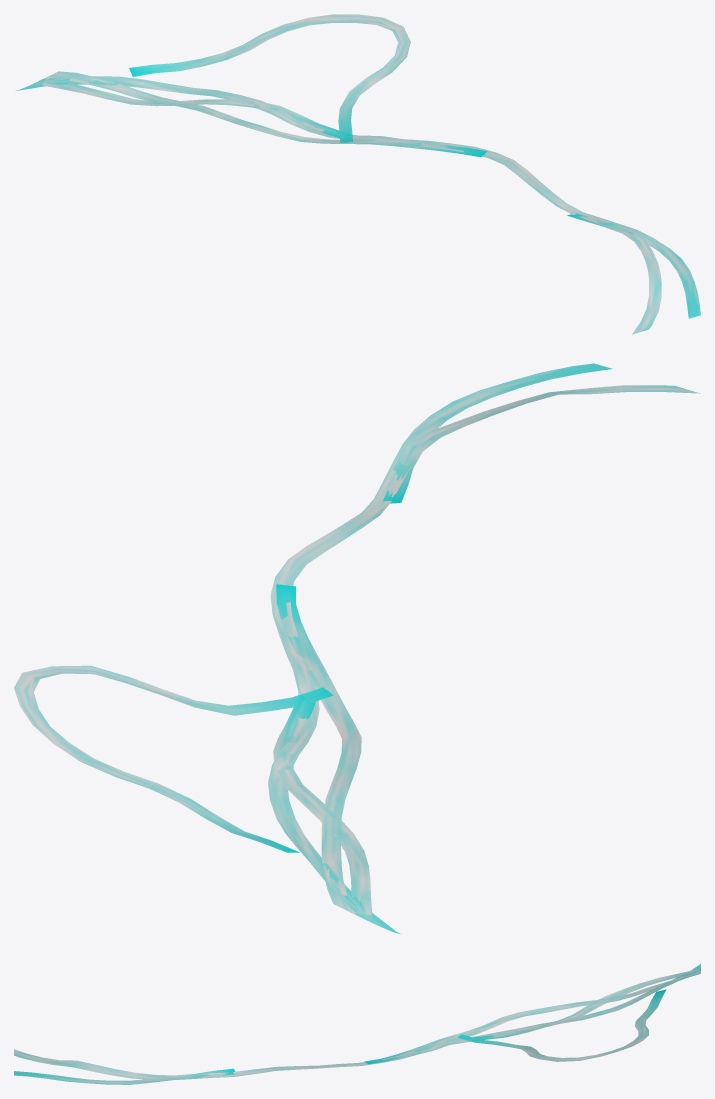
The picture shows the model from 3 angles, top to bottom: view 1: azimuth 30°, elevation 25°; view 2: azimuth 150°, elevation 25°; view 3: azimuth 270°, elevation 25°; orthographic projection. The views are drawn at different scales.
Parts seen in each view (by area): view 1: SpaceCenter_Long3_GenerateRoad_Sand_TireTracks_Width_Mesh_x1; view 2: SpaceCenter_Long3_GenerateRoad_Sand_TireTracks_Width_Mesh_x1; view 3: SpaceCenter_Long3_GenerateRoad_Sand_TireTracks_Width_Mesh_x1.
Part boxes in pixels (<box>): SpaceCenter_Long3_GenerateRoad_Sand_TireTracks_Width_Mesh_x1: <box>16,14,700,334</box>; SpaceCenter_Long3_GenerateRoad_Sand_TireTracks_Width_Mesh_x1: <box>14,363,700,934</box>; SpaceCenter_Long3_GenerateRoad_Sand_TireTracks_Width_Mesh_x1: <box>14,963,700,1084</box>.
Size of the model in its own units: 2304 by 1045 by 128.
